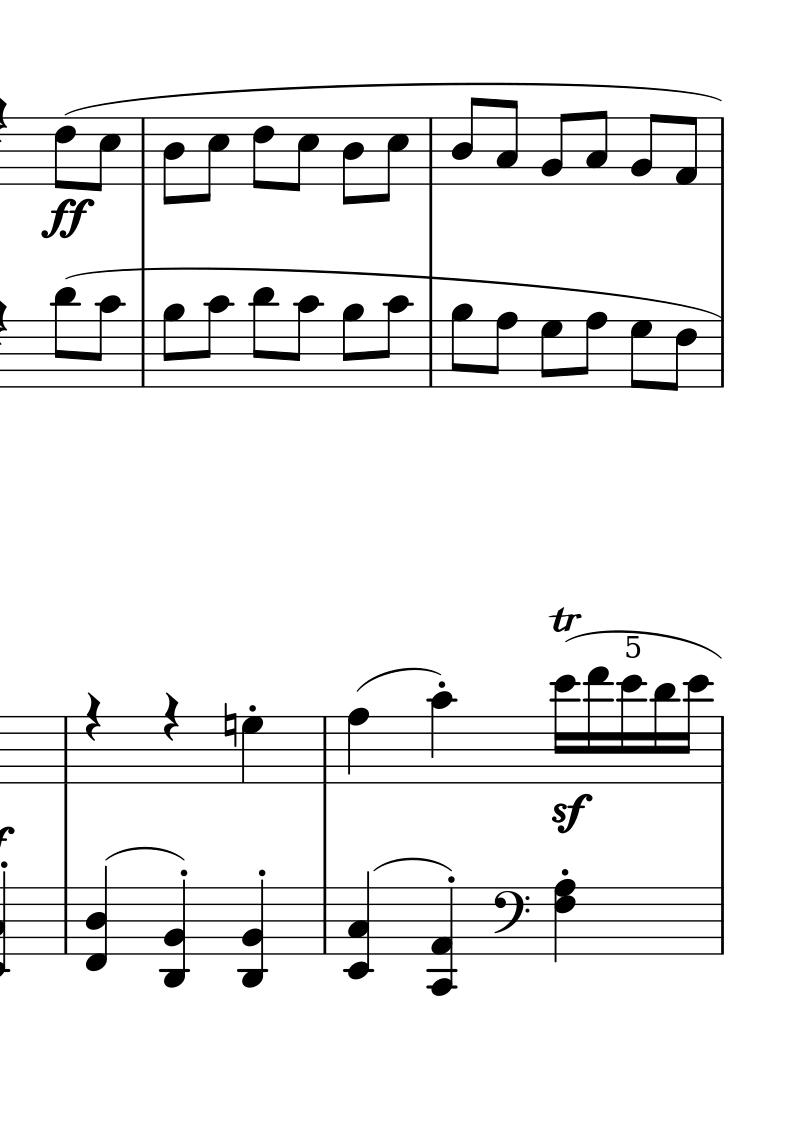16_11: (651, 682, 677, 786)
16_12: (679, 673, 713, 785), (618, 675, 645, 785), (551, 673, 577, 785)
16_13: (584, 666, 609, 783)
4_-1_4: (82, 865, 110, 973)
4_-2_3: (341, 871, 375, 980)
4_-3_2: (159, 878, 191, 989), (236, 877, 268, 988)
4_-4_1: (425, 886, 460, 999)
4_10: (428, 690, 455, 785)
4_6_8: (552, 878, 578, 965)
4_7: (239, 715, 265, 785)
4_8: (344, 707, 370, 786)
5: (623, 635, 643, 661)
8_1: (674, 115, 698, 188)
8_10: (89, 294, 125, 390), (197, 293, 233, 389), (288, 293, 323, 390), (377, 294, 412, 390)
8_11: (248, 285, 276, 389), (51, 286, 78, 389)
8_2: (629, 112, 661, 186), (539, 111, 570, 186)
8_3: (494, 99, 519, 187), (584, 108, 608, 187)
8_4: (450, 96, 482, 186), (339, 116, 365, 208), (161, 116, 186, 207)
8_5: (197, 116, 230, 204), (378, 116, 409, 204), (89, 116, 121, 194), (288, 116, 320, 193)
8_6: (667, 319, 699, 394), (52, 115, 76, 191), (251, 116, 275, 191)
8_7: (628, 319, 653, 391), (539, 319, 563, 389)
8_8: (484, 311, 517, 390), (574, 311, 607, 390)
8_9: (159, 302, 186, 389), (339, 302, 365, 390), (448, 303, 474, 389)
Fclef: (491, 887, 530, 957)
Natural: (222, 701, 238, 749)
Rests4: (84, 690, 104, 743), (161, 690, 181, 742)
Single_barline: (316, 886, 334, 954), (134, 116, 151, 185), (134, 319, 151, 388), (57, 886, 74, 954), (317, 716, 334, 782), (714, 888, 730, 954), (423, 117, 438, 185), (423, 319, 438, 386), (58, 716, 73, 782), (714, 324, 729, 389), (715, 715, 729, 783), (716, 117, 729, 186)
Slur: (565, 630, 723, 661), (356, 666, 441, 694), (103, 845, 183, 863), (372, 855, 454, 872)
Trill: (547, 601, 580, 632)
ff: (39, 195, 95, 242)
sf: (549, 794, 591, 835)
